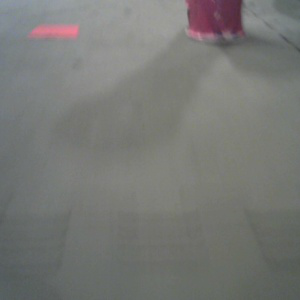right: (185, 1, 248, 45)
